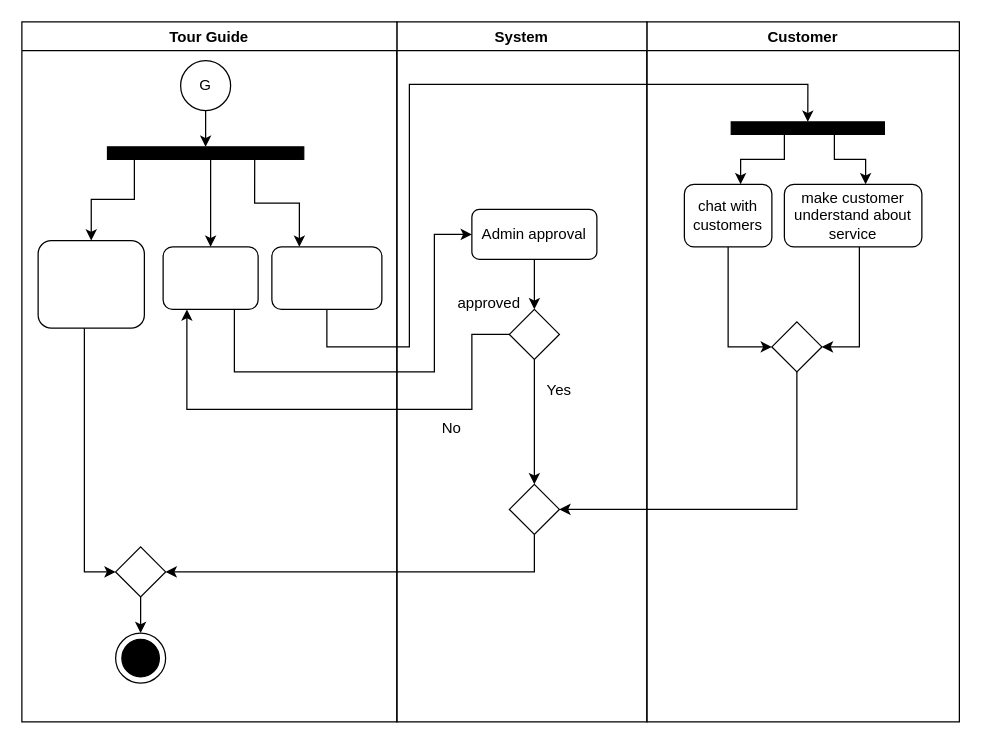
The diagram is 981 pixels wide and 744 high, and some of its shapes have lost their labels. The centre of each missing label's shape, as x and y in pixels:
"add travel guidance details" belongs at [210,277].
"interact with customer" belongs at [326,277].
"set availability to ONLINE/ OFFLINE" belongs at [90,283].
